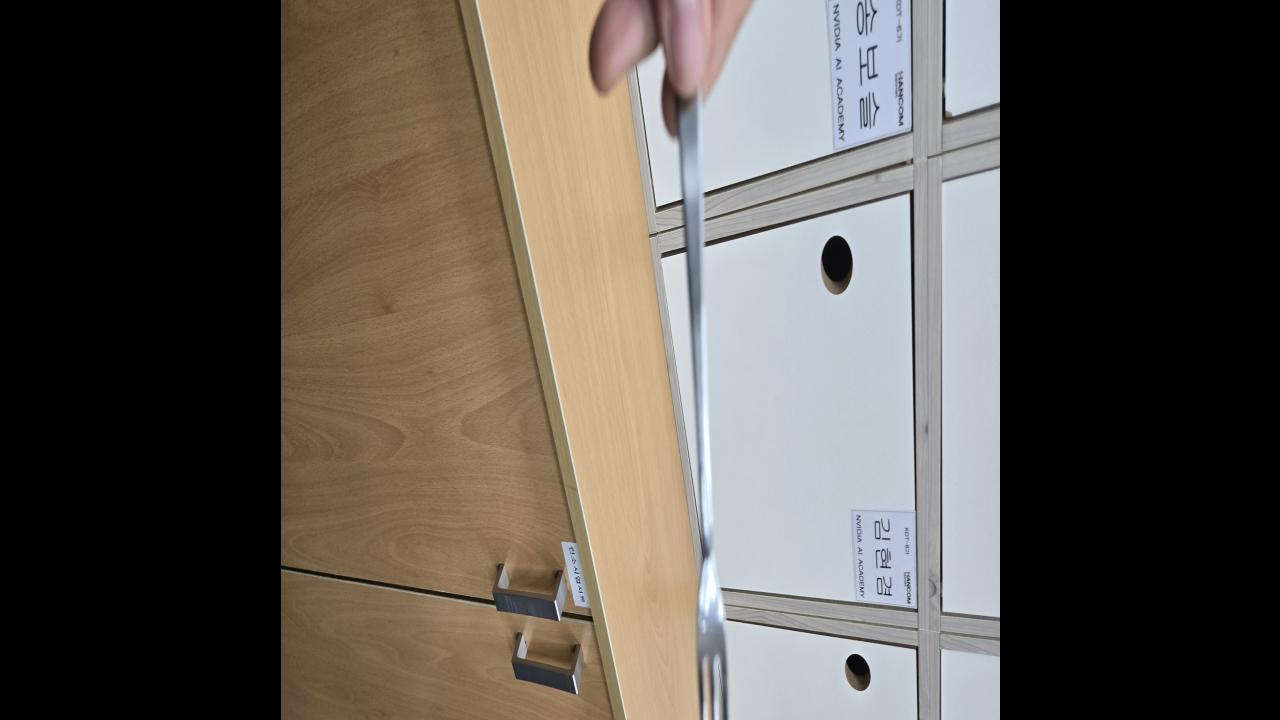fork: (678, 98, 730, 720)
